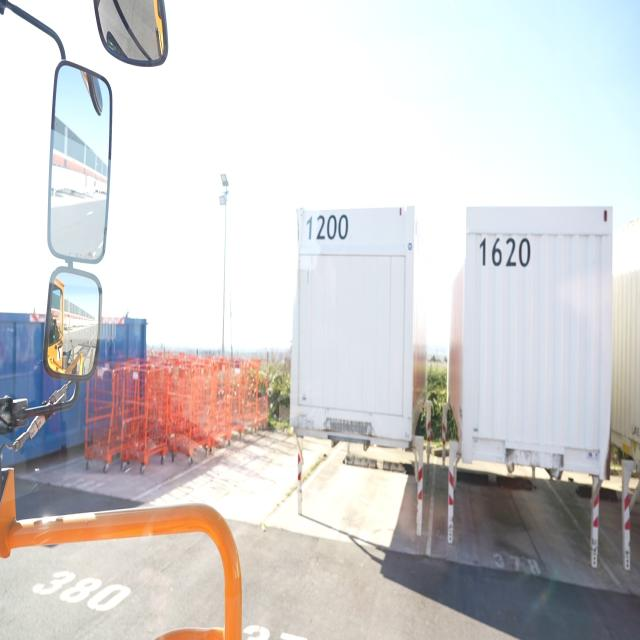Code: (473, 230, 531, 274), (304, 214, 351, 242)
